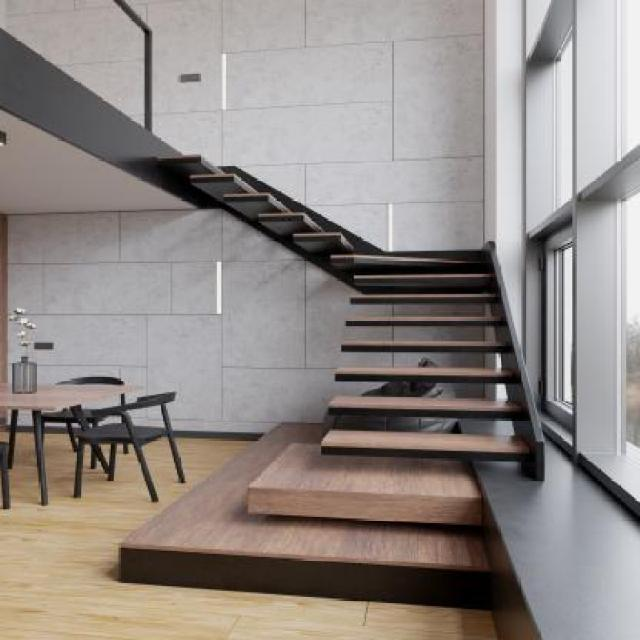stair: (93, 123, 567, 623)
